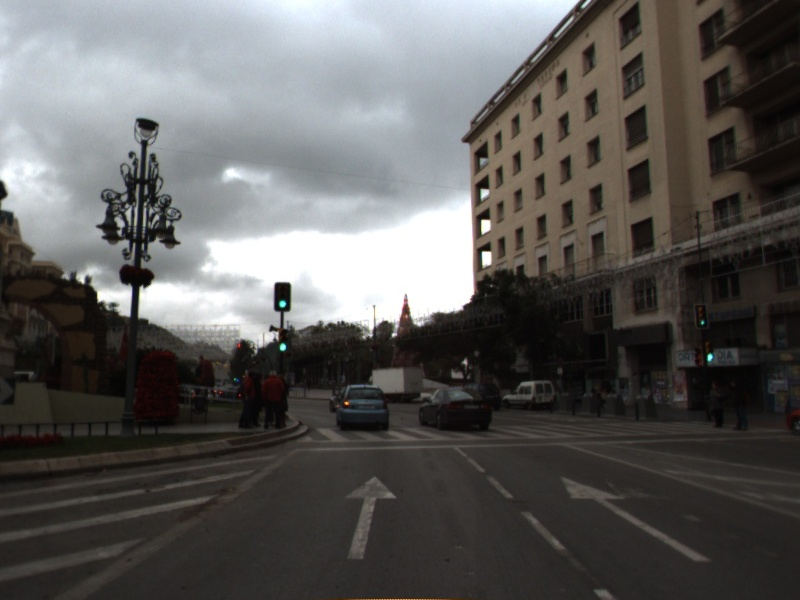STRAIGHT: (558, 474, 715, 565), (342, 473, 400, 562)
